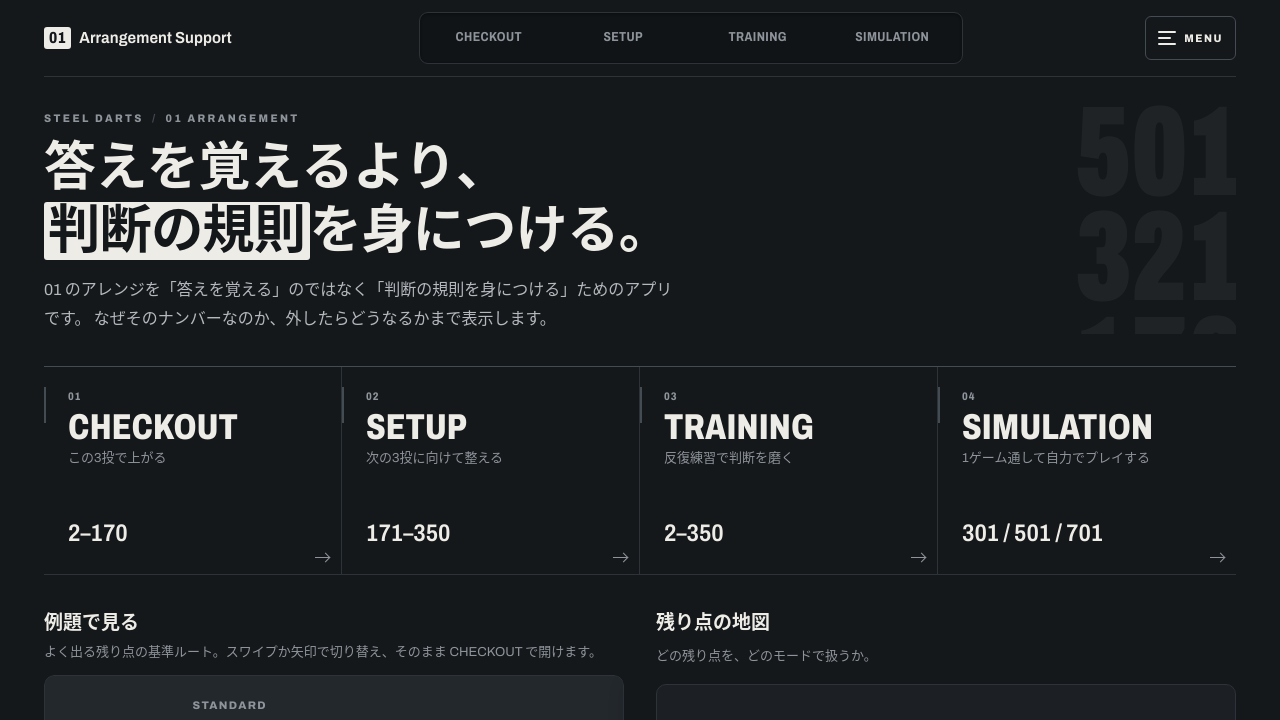
Test: 更新バナー › training の最中でも出るが、画面はそのまま動く
Step 1. Click the button with test id "nav-training" → (758, 38), box [692, 16, 824, 60]
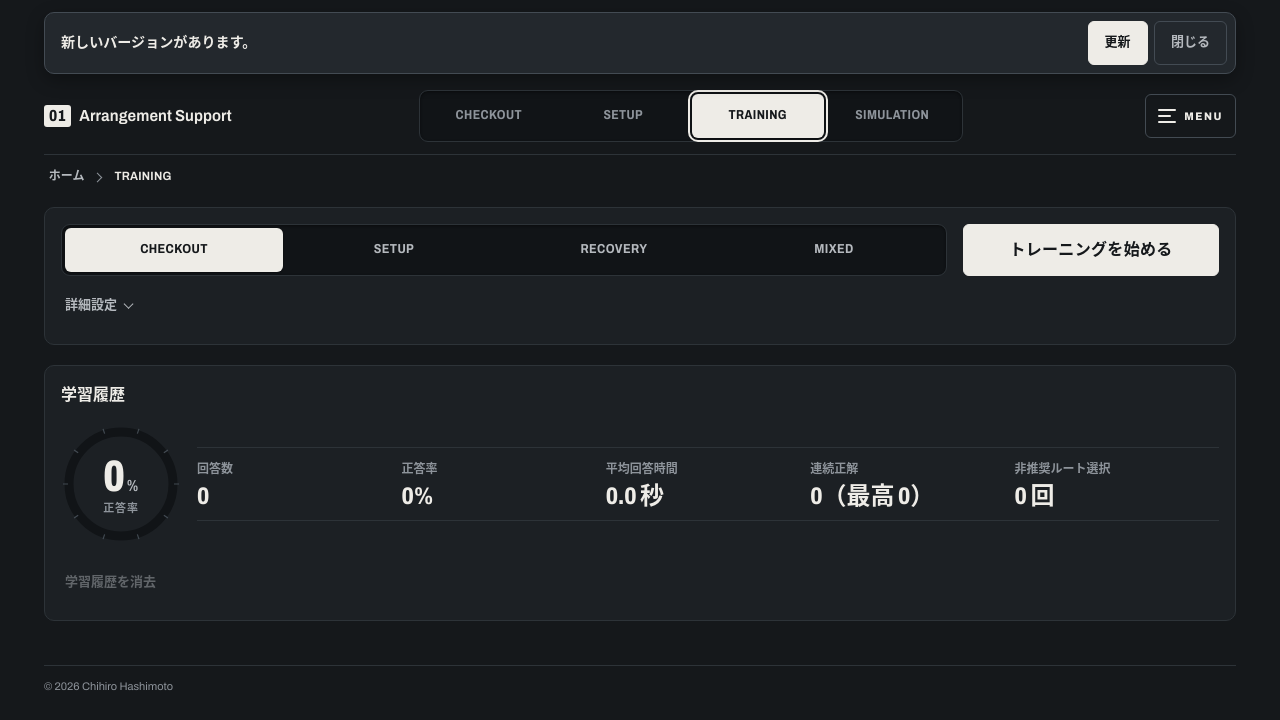
expect the message "新しいバージョンがあります。 更新 閉じる" is shown: met, box [44, 12, 1236, 74]
